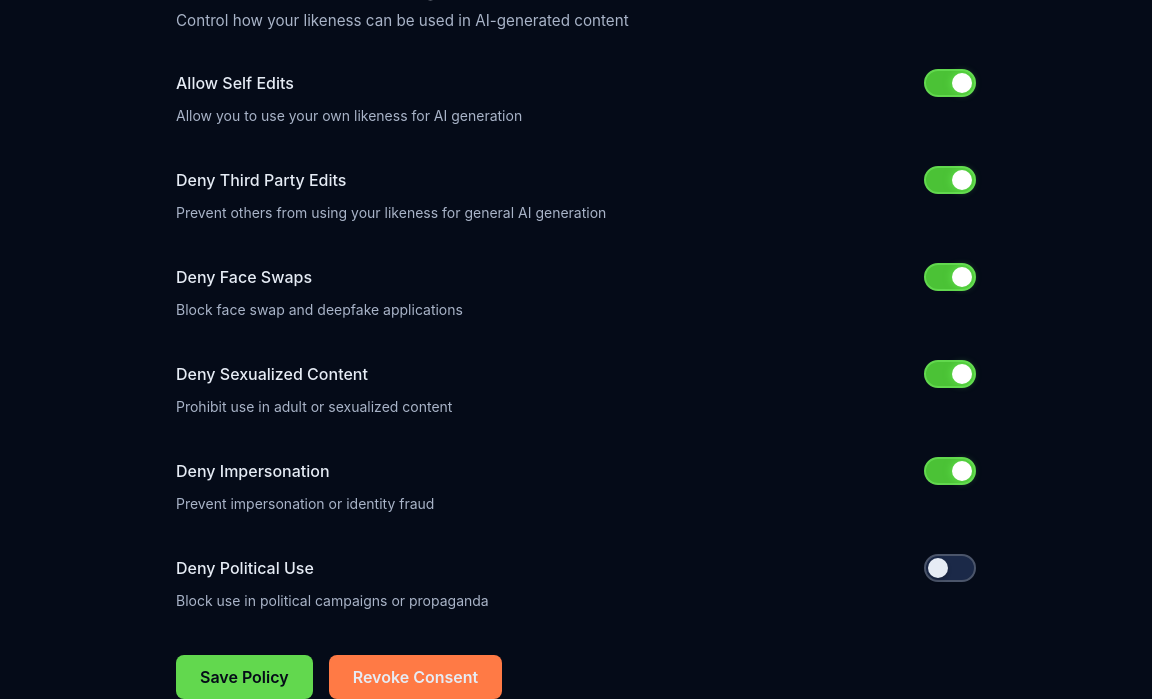
Scenario: PolicyForm › displays success message after successful save
What coordinates should you click on to do the following:
click the button "Save Policy"
I would click on:
 (244, 677)
Its box is [176,655,313,698].
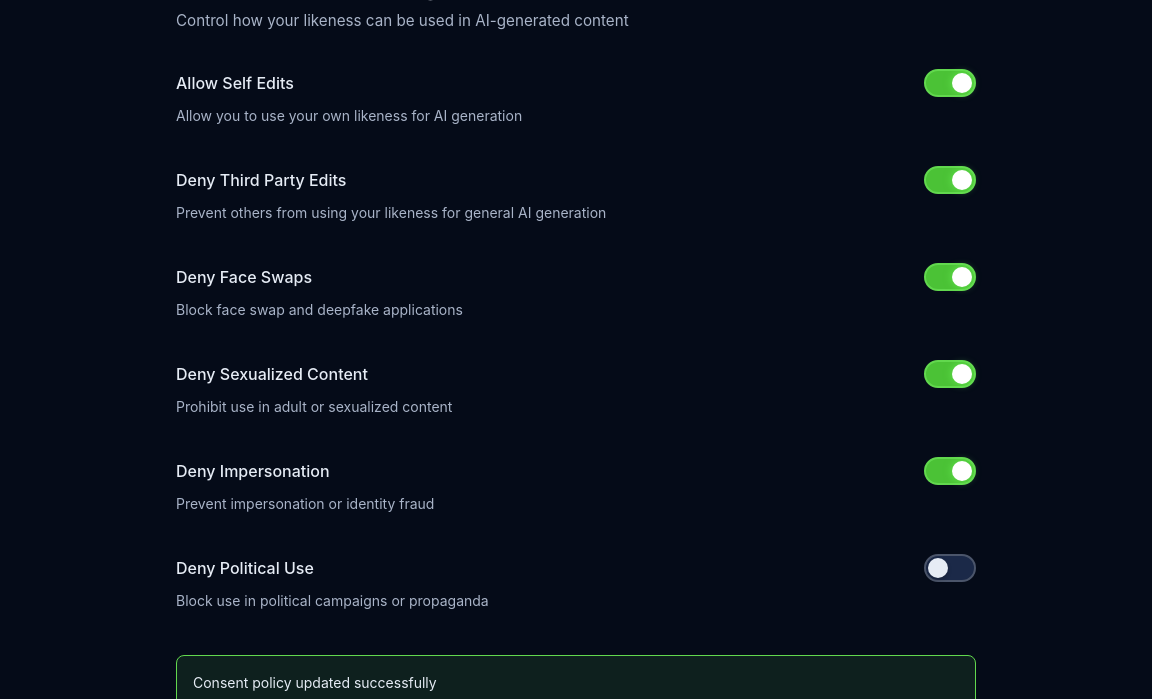
Expected: the text "Consent policy updated successfully" is shown, [193,674,437,691]
